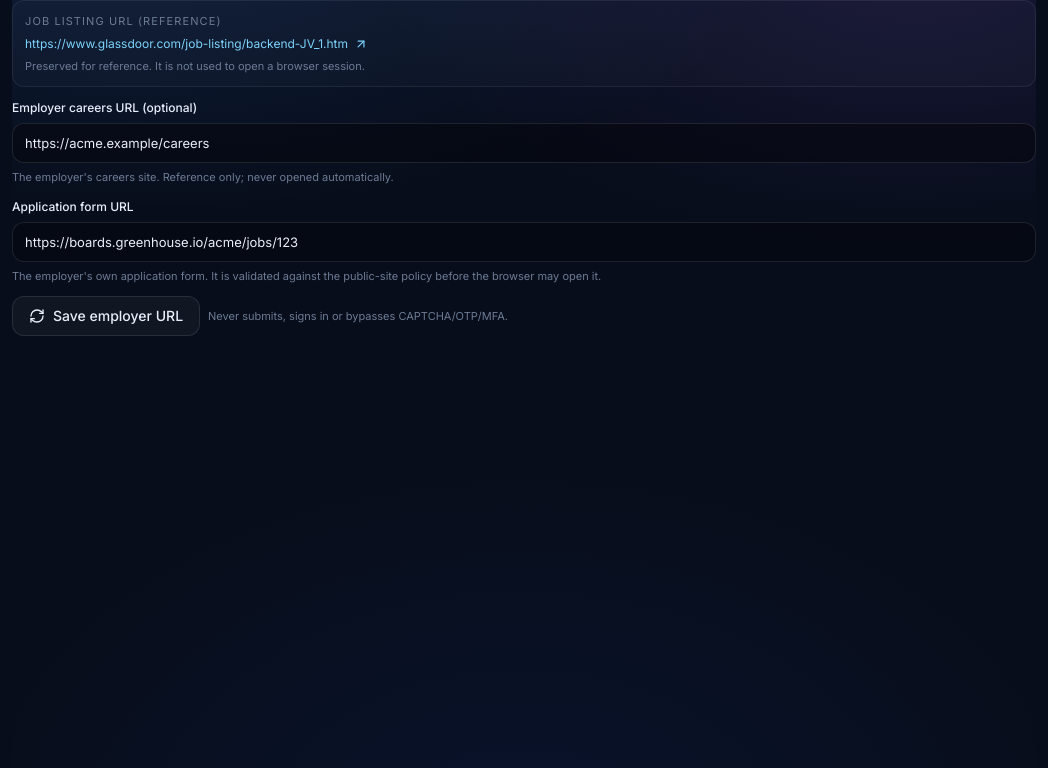
Scenario: EmployerApplicationUrlForm › displays invalid-URL validation details instead of a generic 400
The width and height of the screenshot is (1048, 768).
Replace the text in the field named "Employer application URL" with "http://127.0.0.1/apply" at [524, 242], box left=12, top=222, right=1036, bottom=262
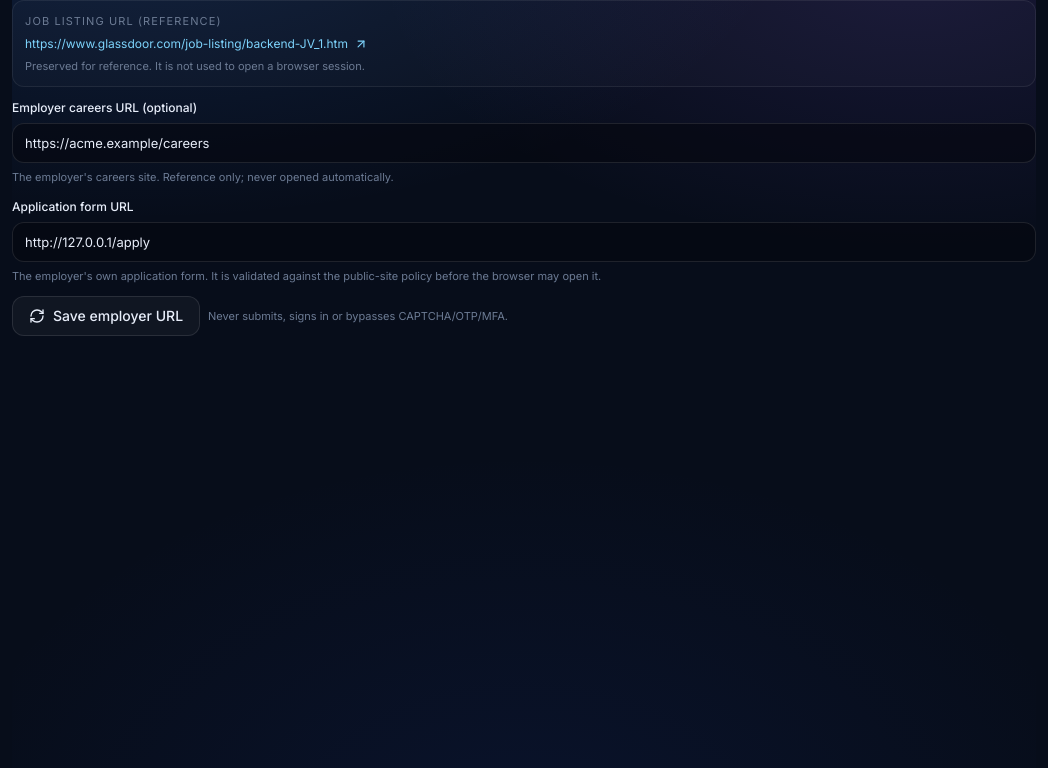
Click the button "Save employer URL" at [106, 316], box left=12, top=296, right=200, bottom=336
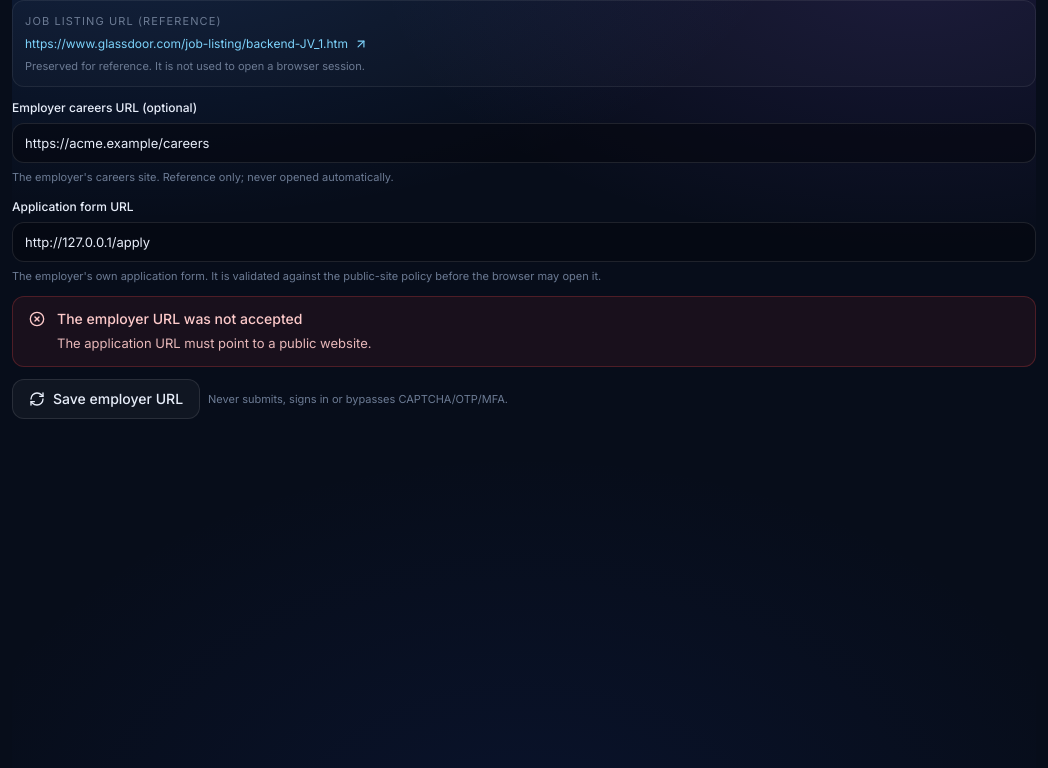
Now the text "The application URL must point to a public website." is shown, box left=57, top=333, right=372, bottom=354
